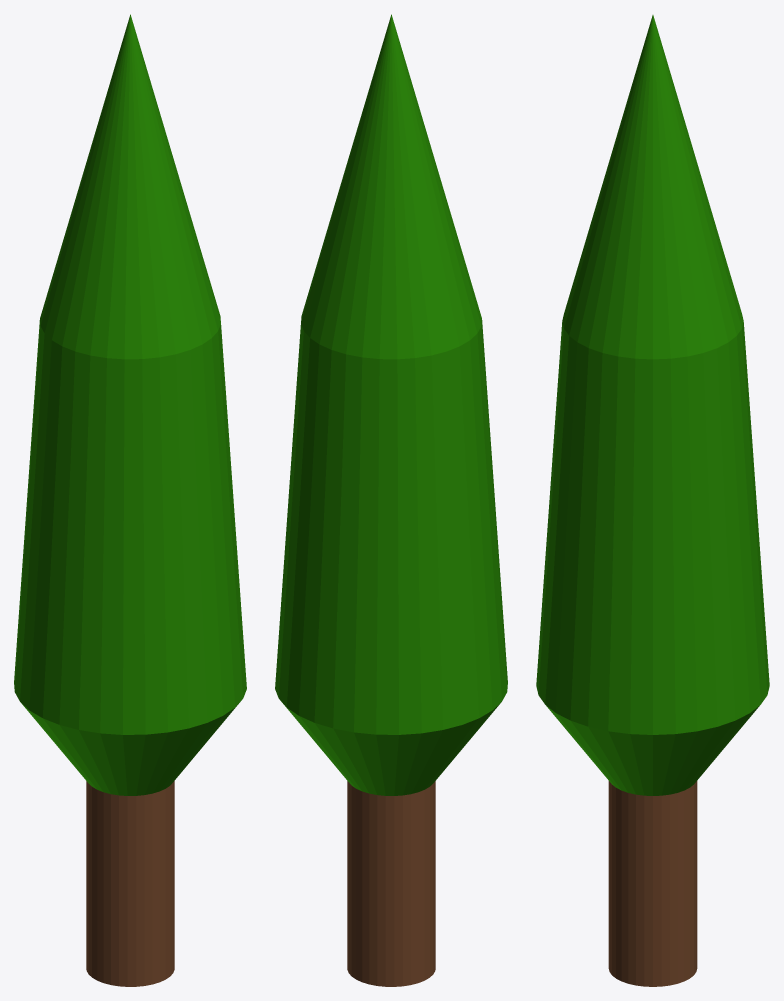
Rendered from Tree.glb.
3 views of the same model, side by side, from view 1: azimuth 30°, elevation 25°; view 2: azimuth 150°, elevation 25°; view 3: azimuth 270°, elevation 25° (orthographic).
Visible parts, largest first — view 1: Cylinder; view 2: Cylinder; view 3: Cylinder.
Part boxes in pixels (x1,y1,x2,y2): Cylinder: (14,14,246,986); Cylinder: (275,14,507,986); Cylinder: (536,15,769,986).
Size of the model in its own units: 5.27 by 23.76 by 5.27.
